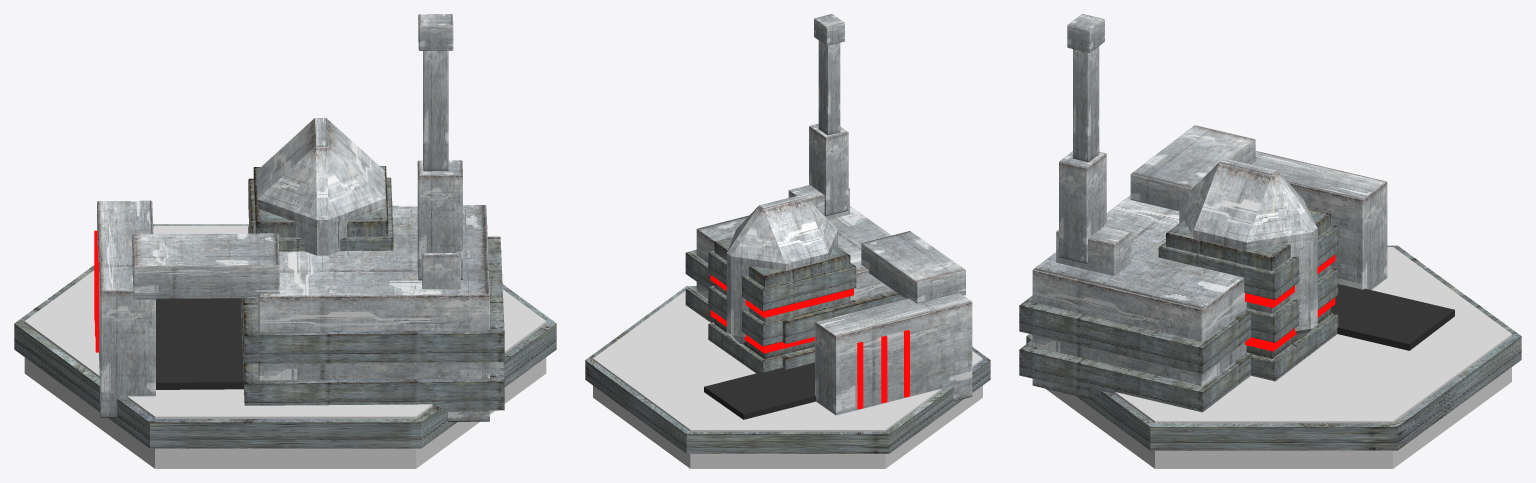
The model's file is armory.fbx.
The picture shows the model from 3 angles, left to right: view 1: azimuth 30°, elevation 25°; view 2: azimuth 150°, elevation 25°; view 3: azimuth 270°, elevation 25°; orthographic projection. The views are drawn at different scales.
Parts seen in each view (by area): view 1: armoary; view 2: armoary; view 3: armoary.
Boxes of the visible parts, box(x1,y1,x2,y2) form: armoary: box(14, 14, 556, 468); armoary: box(585, 14, 990, 468); armoary: box(1019, 14, 1521, 468).
Bounding box in the file's own units: 392 × 373 × 446.
Materials: 6 (3 with a texture image).
